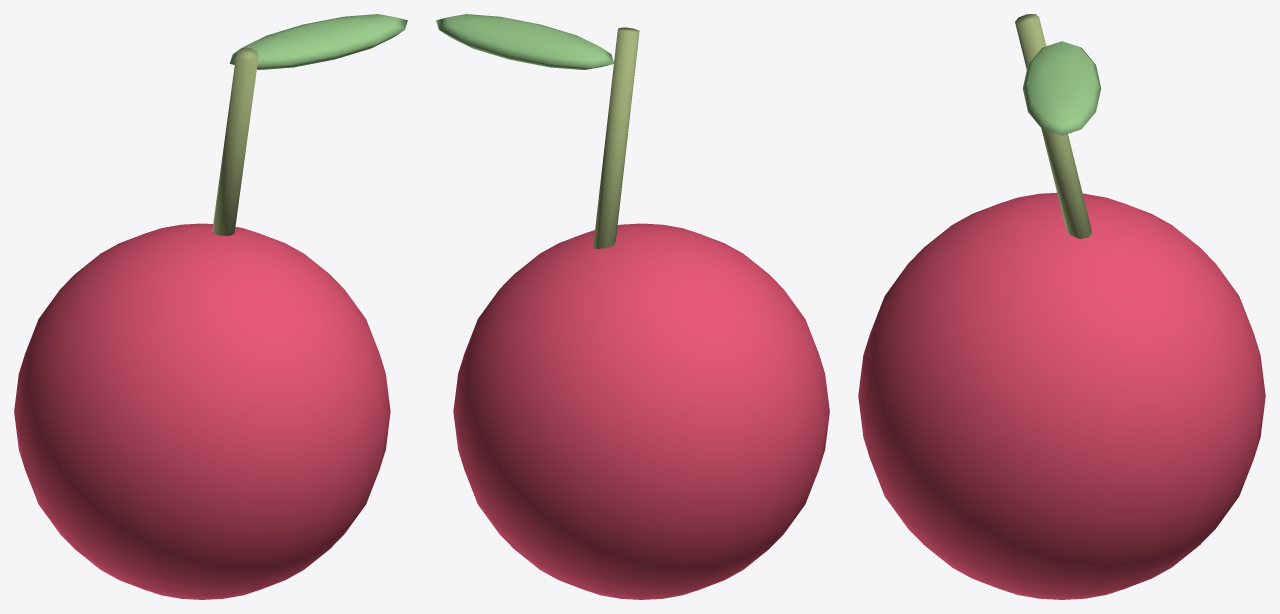
Rendered from Cherry.glb.
The picture shows the model from 3 angles, left to right: view 1: azimuth 30°, elevation 25°; view 2: azimuth 150°, elevation 25°; view 3: azimuth 270°, elevation 25°; orthographic projection. The views are drawn at different scales.
Parts seen in each view (by area): view 1: Cherry; view 2: Cherry; view 3: Cherry.
Part boxes in pixels (bbox=[...]): Cherry: bbox=[14, 14, 407, 599]; Cherry: bbox=[436, 14, 829, 599]; Cherry: bbox=[858, 14, 1265, 599].
Bounding box in the file's own units: 0.633 × 0.8784 × 0.56.
